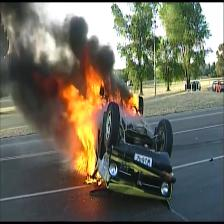fire: (46, 64, 152, 190)
smoke: (0, 5, 135, 110)
